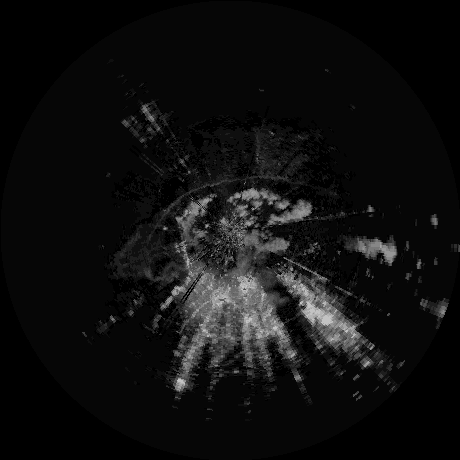frontgust: (160, 175, 296, 216)
